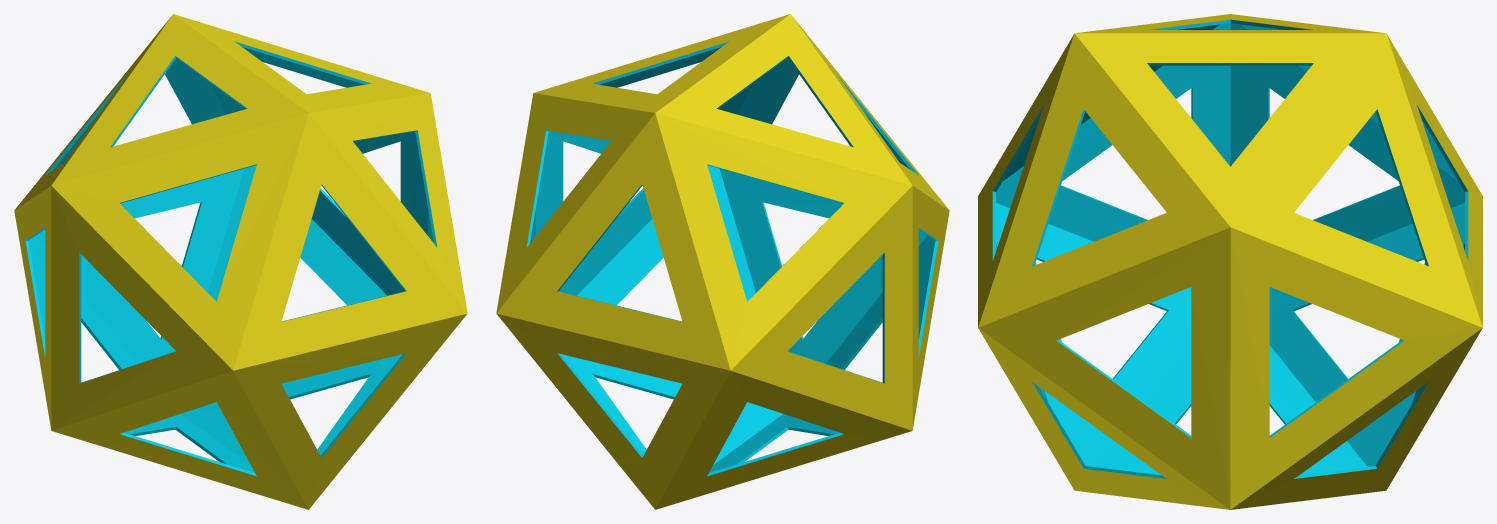
File: IcosahedronS1.glb
3 renders of one model, left to right at view 1: azimuth 30°, elevation 25°; view 2: azimuth 150°, elevation 25°; view 3: azimuth 270°, elevation 25°, orthographic. The views are drawn at different scales.
Visible parts, largest first — view 1: Mesh_0007_1, Mesh_0007; view 2: Mesh_0007_1, Mesh_0007; view 3: Mesh_0007_1, Mesh_0007.
Part boxes in pixels (x1,y1,x2,y2): Mesh_0007_1: [14, 14, 467, 509]; Mesh_0007: [25, 41, 437, 476]; Mesh_0007_1: [496, 14, 949, 509]; Mesh_0007: [526, 41, 938, 476]; Mesh_0007_1: [978, 14, 1482, 509]; Mesh_0007: [992, 19, 1468, 478].
Size of the model in its own units: 4.88 by 4.88 by 4.88.
